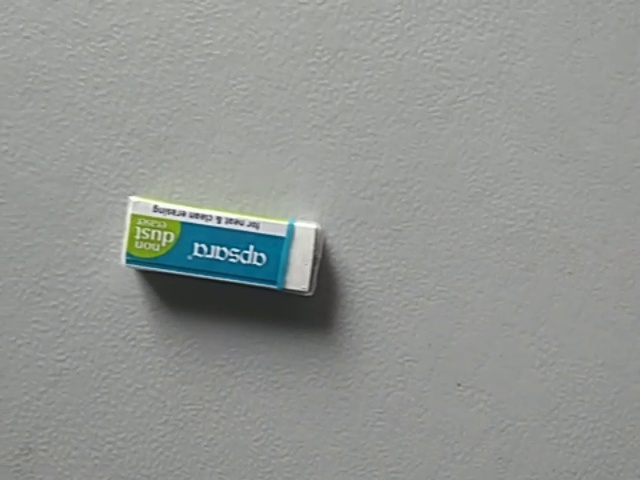Eraser: (115, 189, 323, 298)
